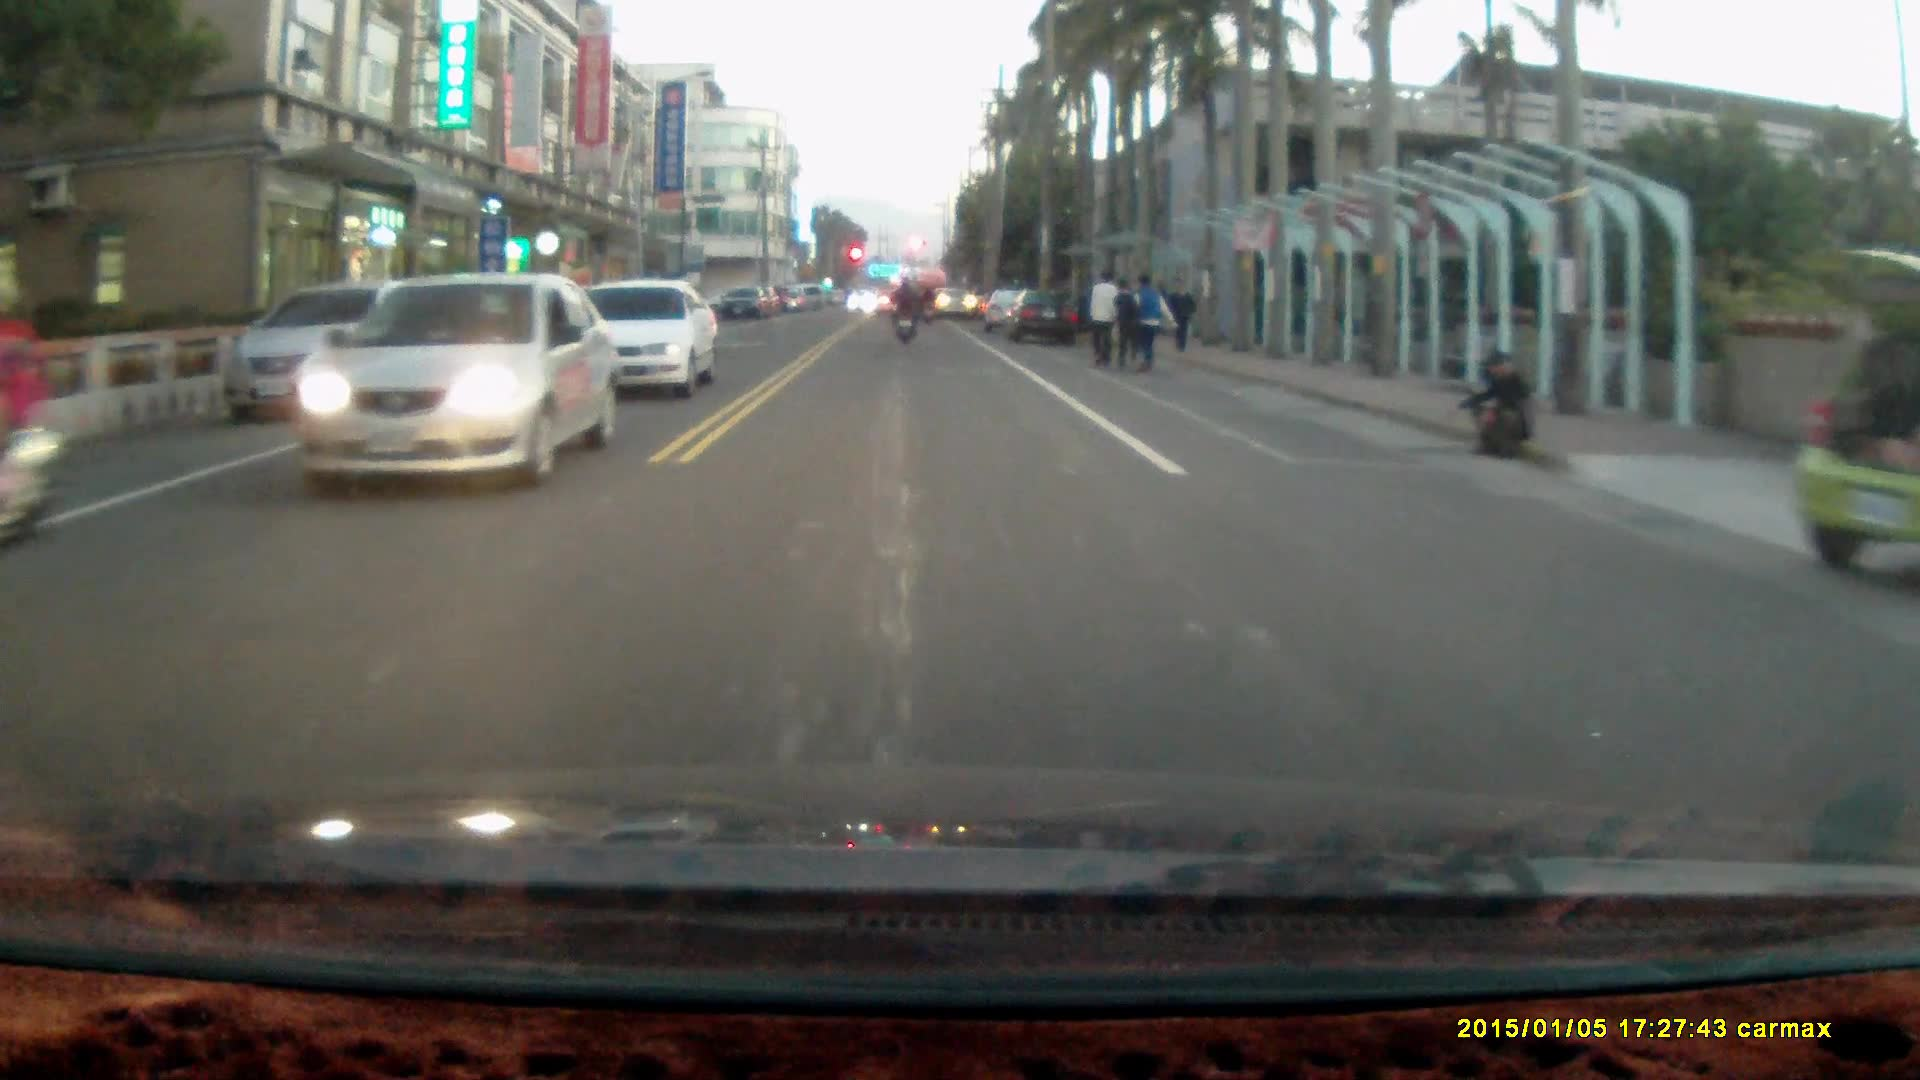pedestrian: (1456, 352, 1535, 459), (1121, 274, 1171, 377), (1087, 269, 1121, 370), (1108, 275, 1139, 367), (1161, 273, 1195, 353)
rider: (0, 274, 67, 557), (886, 274, 919, 349)
vehicle: (293, 273, 618, 495), (1793, 245, 1920, 568), (579, 279, 722, 405), (1001, 290, 1083, 345)
